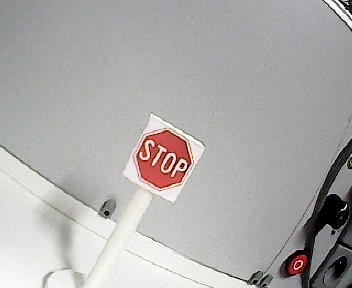stop-bord: (133, 129, 195, 190)
